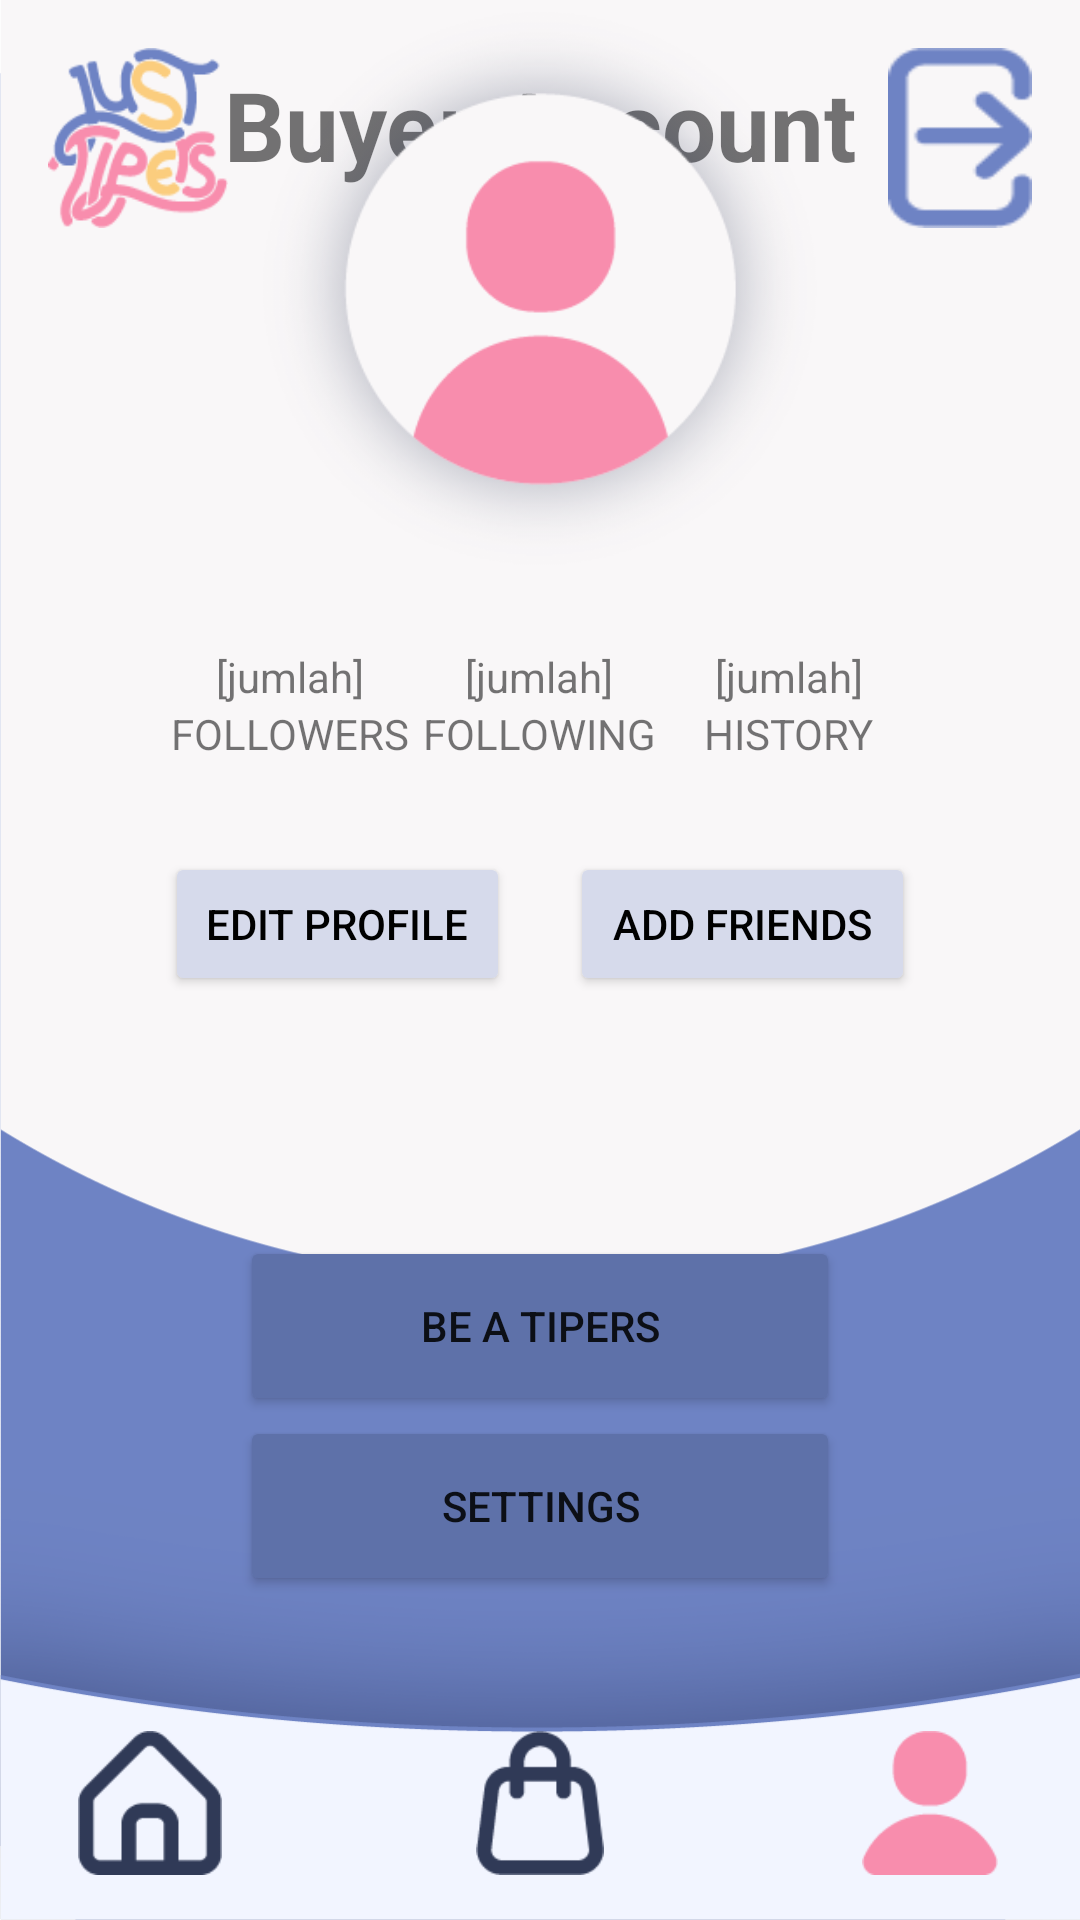

Where to tap for icons on this 1080x1920 app screen, as (x=x, y=y):
bag: (x=540, y=1803)
home profile: (x=150, y=1803)
profile on: (x=930, y=1803)
